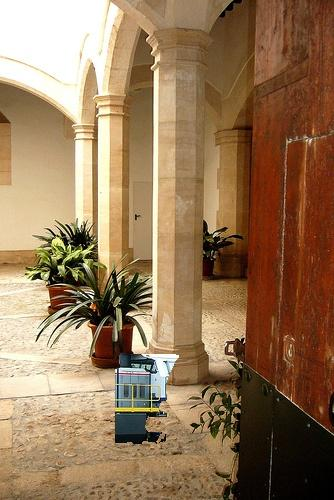tampered: (116, 354, 179, 444)
